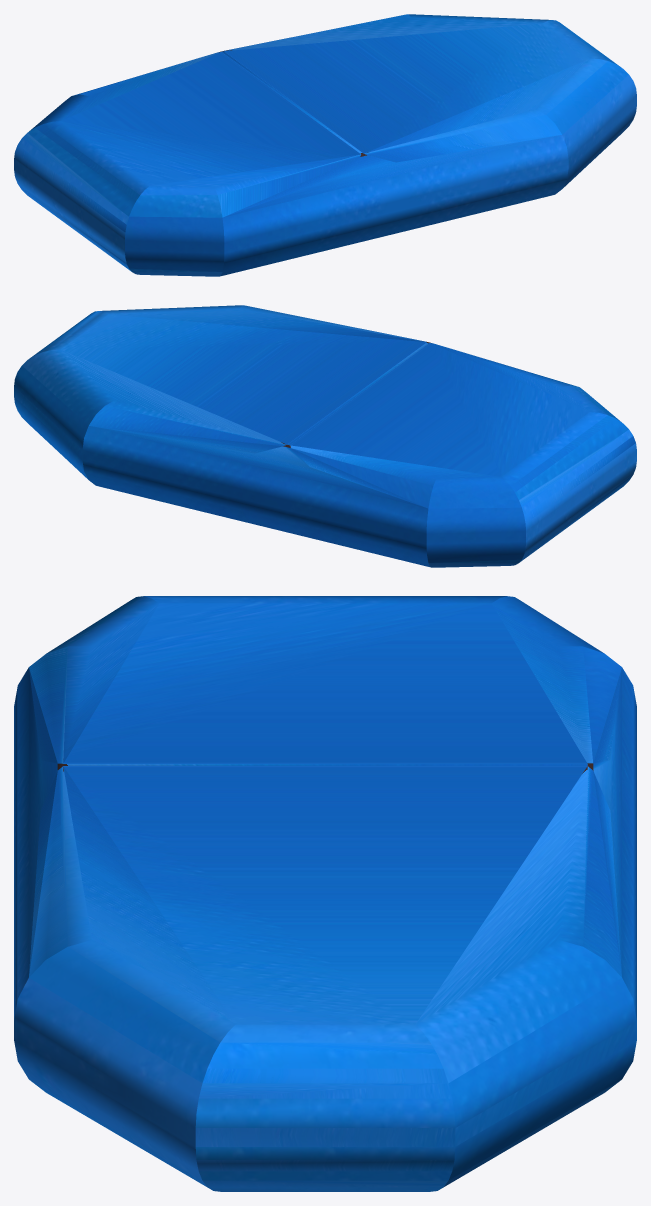
The model's file is cano2_hull.fbx.
3 views of the same model, one above another, from view 1: azimuth 30°, elevation 25°; view 2: azimuth 150°, elevation 25°; view 3: azimuth 270°, elevation 25° (orthographic). The views are drawn at different scales.
Visible parts, largest first — view 1: Fillet2; view 2: Fillet2; view 3: Fillet2.
Boxes of the visible parts, bbox=[...] form: Fillet2: bbox=[14, 14, 636, 276]; Fillet2: bbox=[14, 305, 636, 567]; Fillet2: bbox=[14, 596, 636, 1191].
Bounding box in the file's own units: 22.2 × 3.6 × 12.
1 material, 1 textured.
